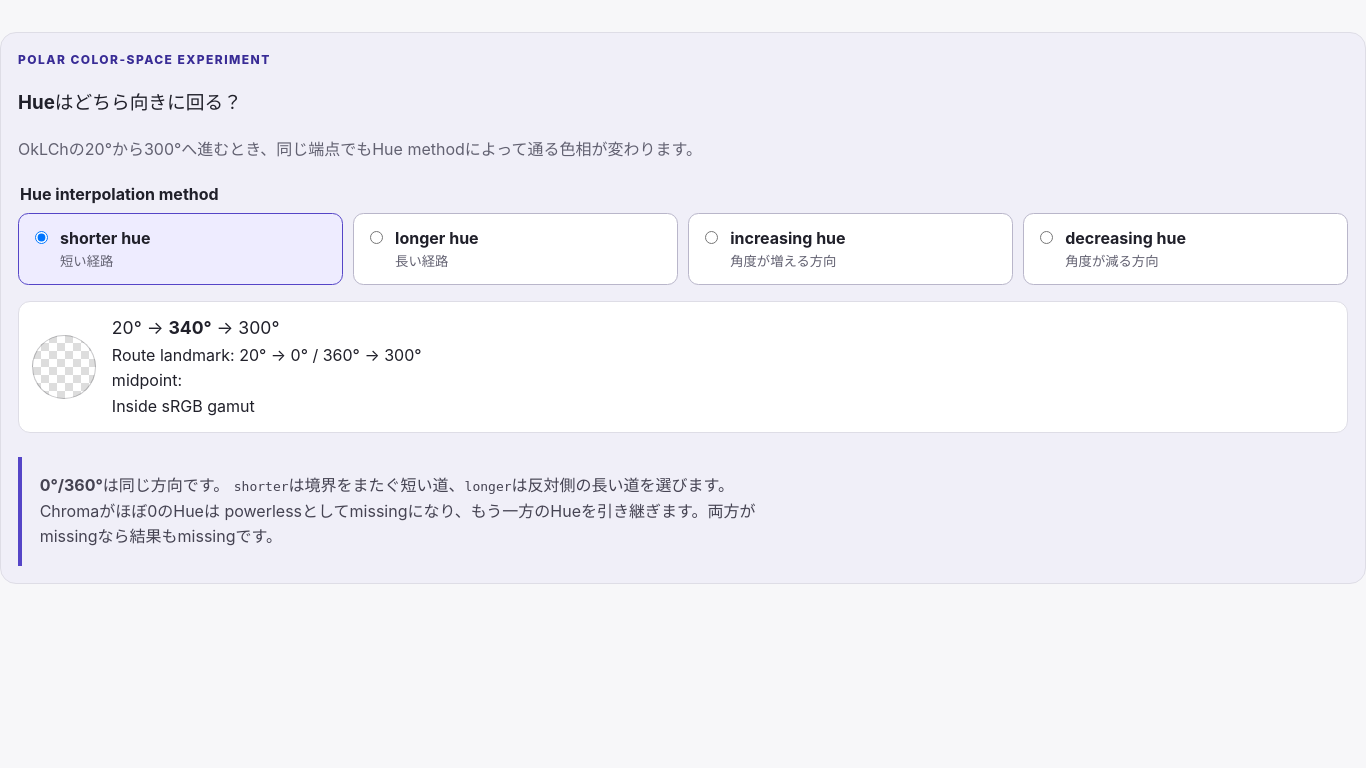
Scenario: Hue interpolation experiment › switches between keyboard-operable CSS hue methods
Expected: the element named "Hue path" shows "340°", [168,318,212,338]
Click the radio button labelled "longer hue 長い経路": (377, 238) [370,231,383,244]
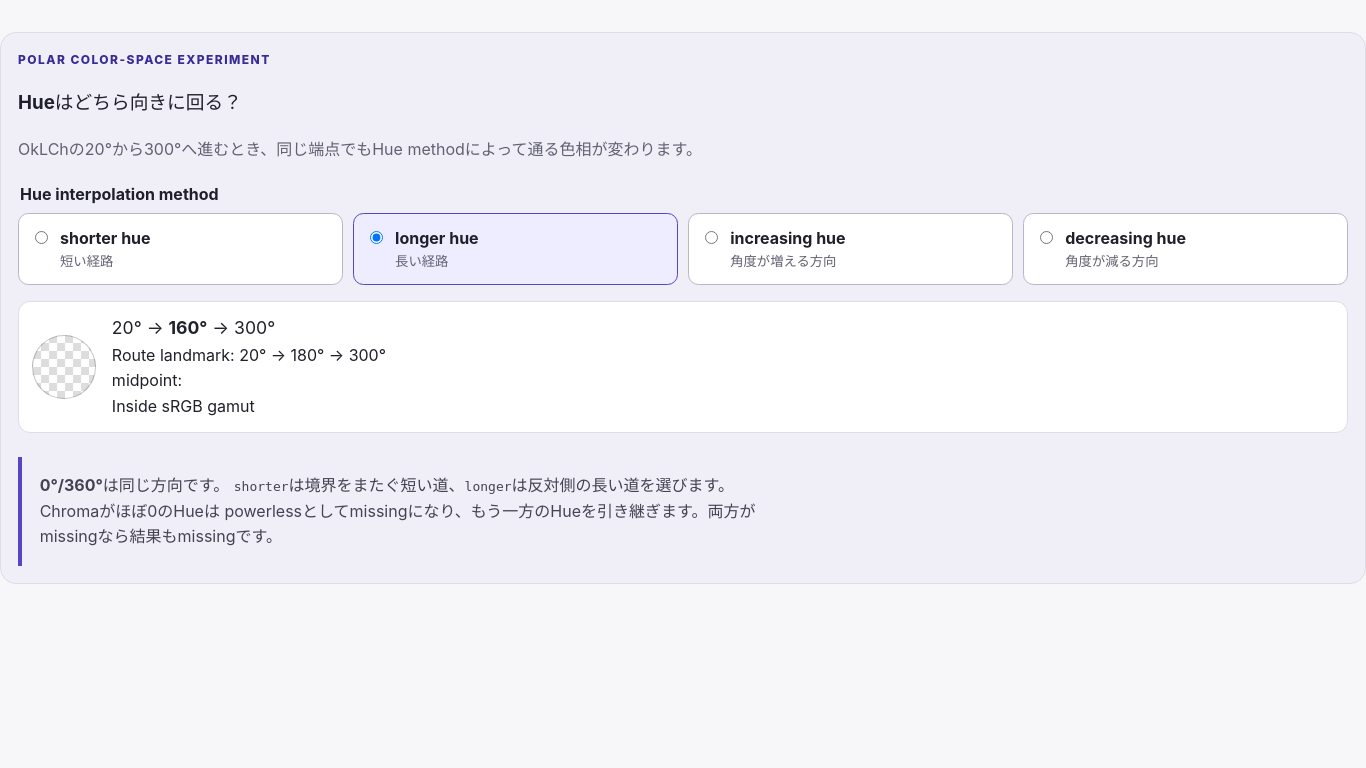
Expected: the radio button labelled "longer hue 長い経路" is checked, [370,231,383,244]
Expected: the element named "Hue path" shows "160°", [168,318,207,338]
